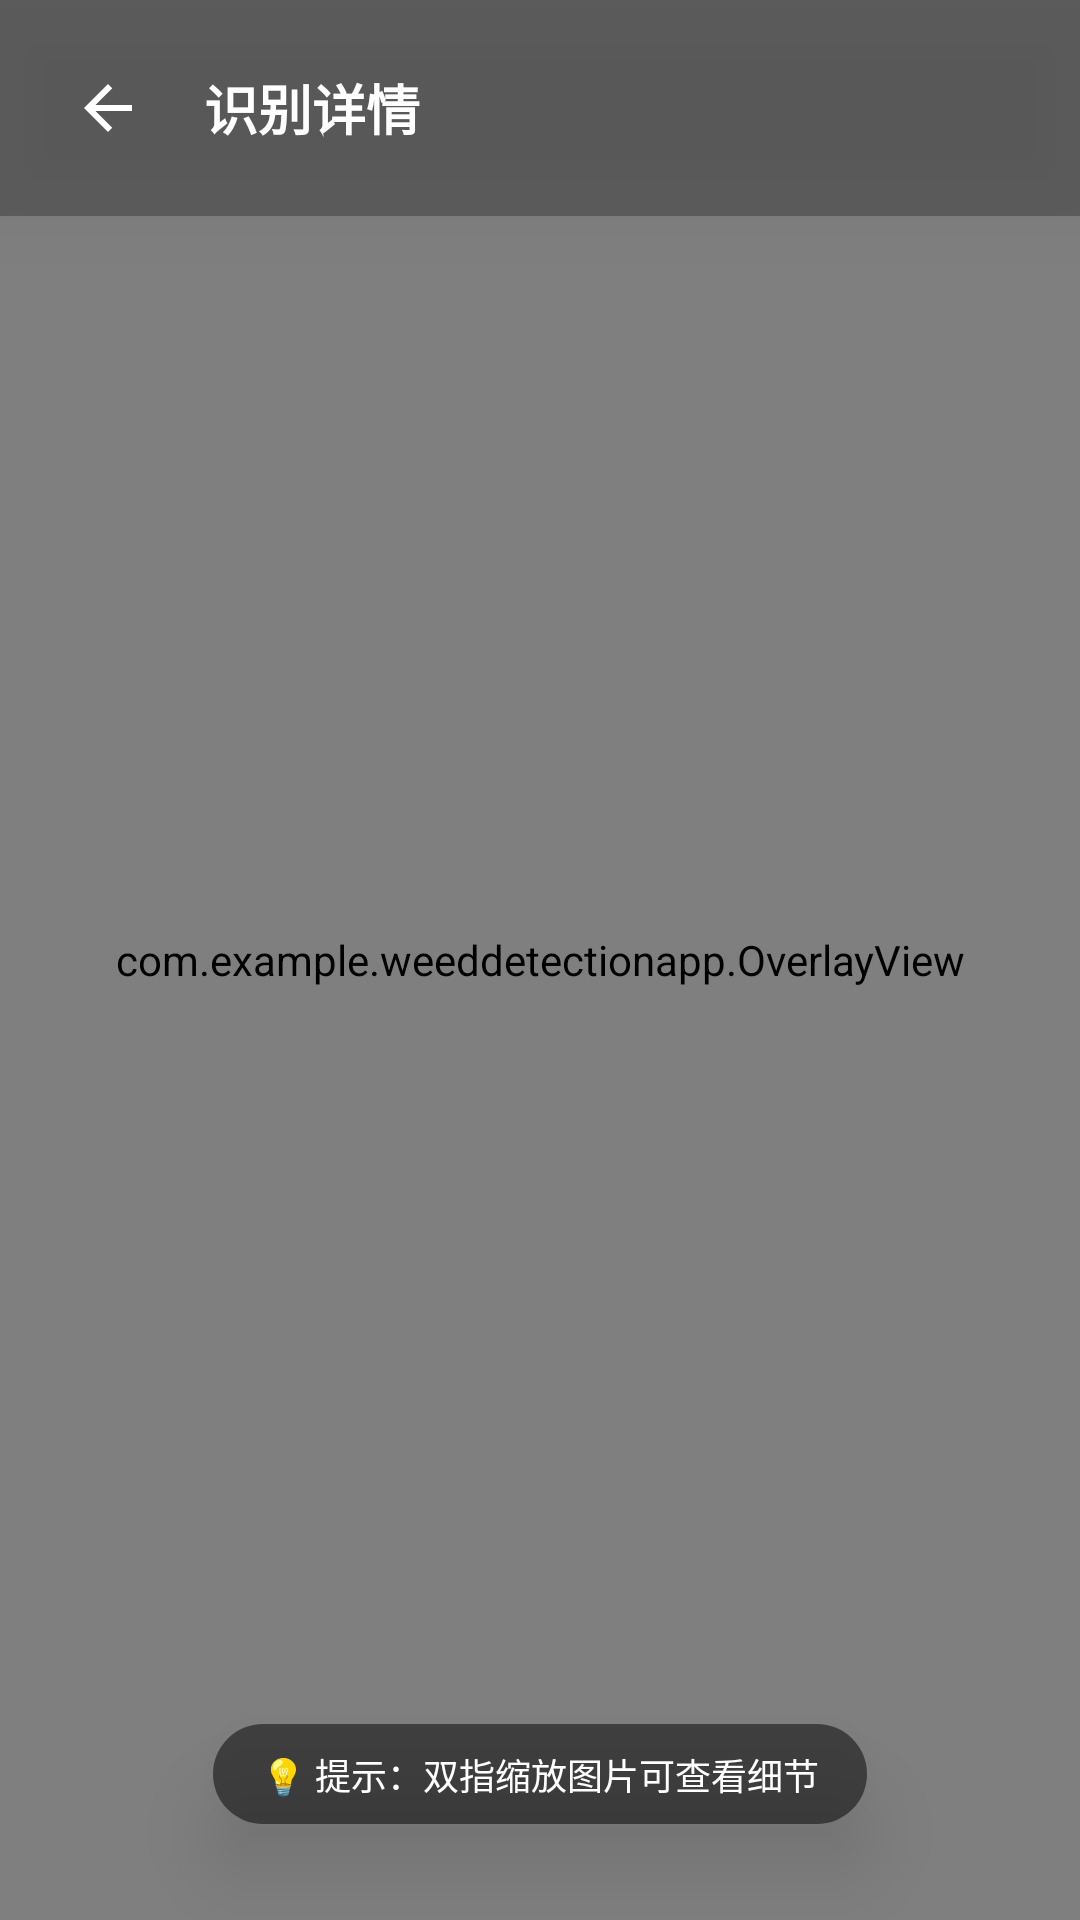

Named icons in this screenshot (1080x1920) and their bounding boxes, (x1, y1, x2, y2):
arrow back: (84, 84, 132, 132)
